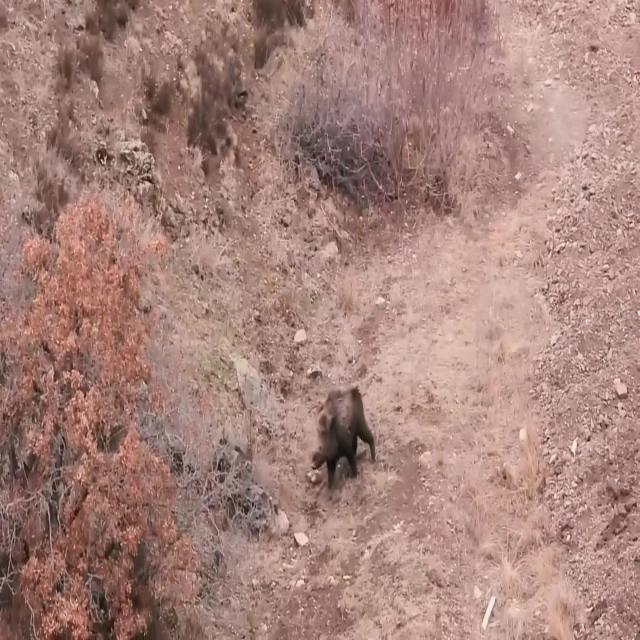pig: (297, 348, 368, 518)
